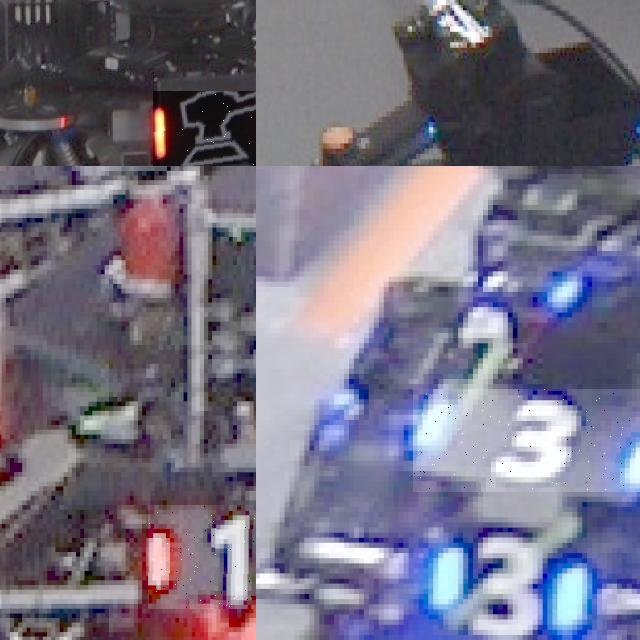B3: (413, 389, 640, 491), (423, 527, 592, 640)
R1: (148, 505, 256, 608)
Rs: (152, 91, 256, 166)
